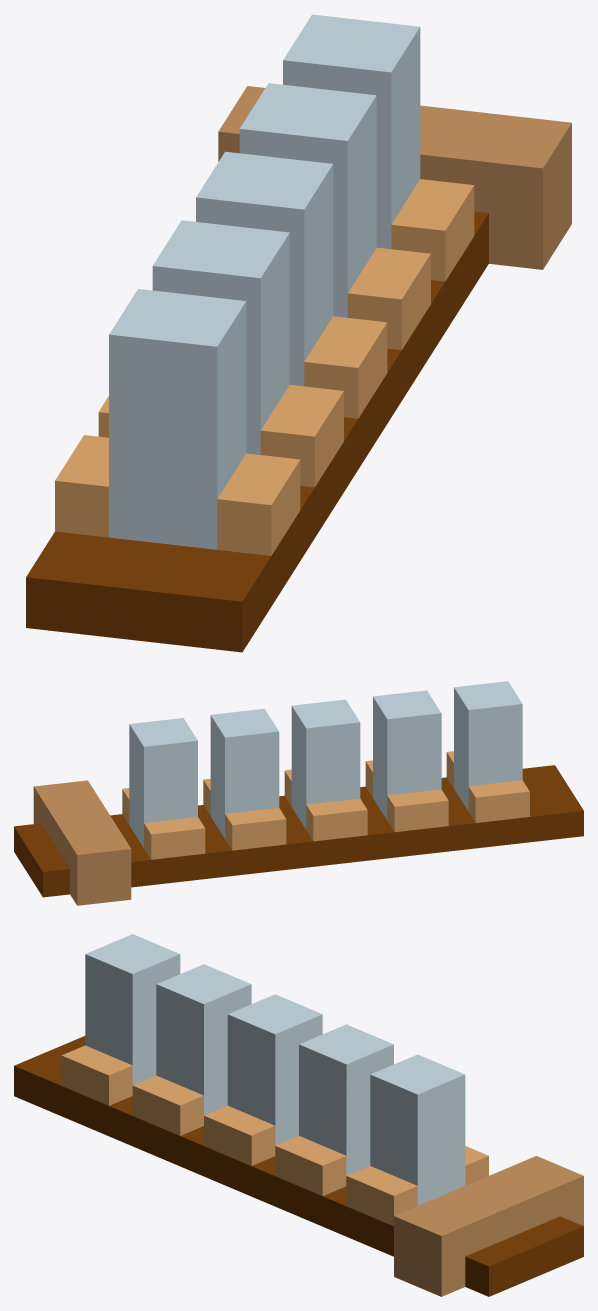
Rendered from item_BANDOLIER.glb.
3 renders of one model, top to bottom at view 1: azimuth 30°, elevation 25°; view 2: azimuth 150°, elevation 25°; view 3: azimuth 270°, elevation 25°, orthographic. The views are drawn at different scales.
Parts seen in each view (by area): view 1: item_BANDOLIER; view 2: item_BANDOLIER; view 3: item_BANDOLIER.
Boxes of the visible parts, x1,y1,x2,y2 form: item_BANDOLIER: [26, 14, 571, 652]; item_BANDOLIER: [14, 681, 583, 905]; item_BANDOLIER: [14, 934, 583, 1296].
Size of the model in its own units: 0.3857 by 0.1136 by 0.3857.
1 material, 1 textured.
